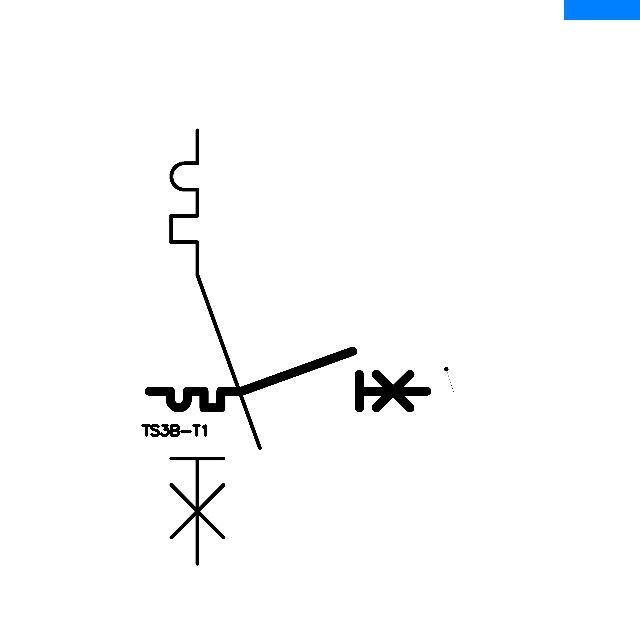interruptor_termomagnetico: (160, 119, 271, 574), (142, 344, 434, 415)
